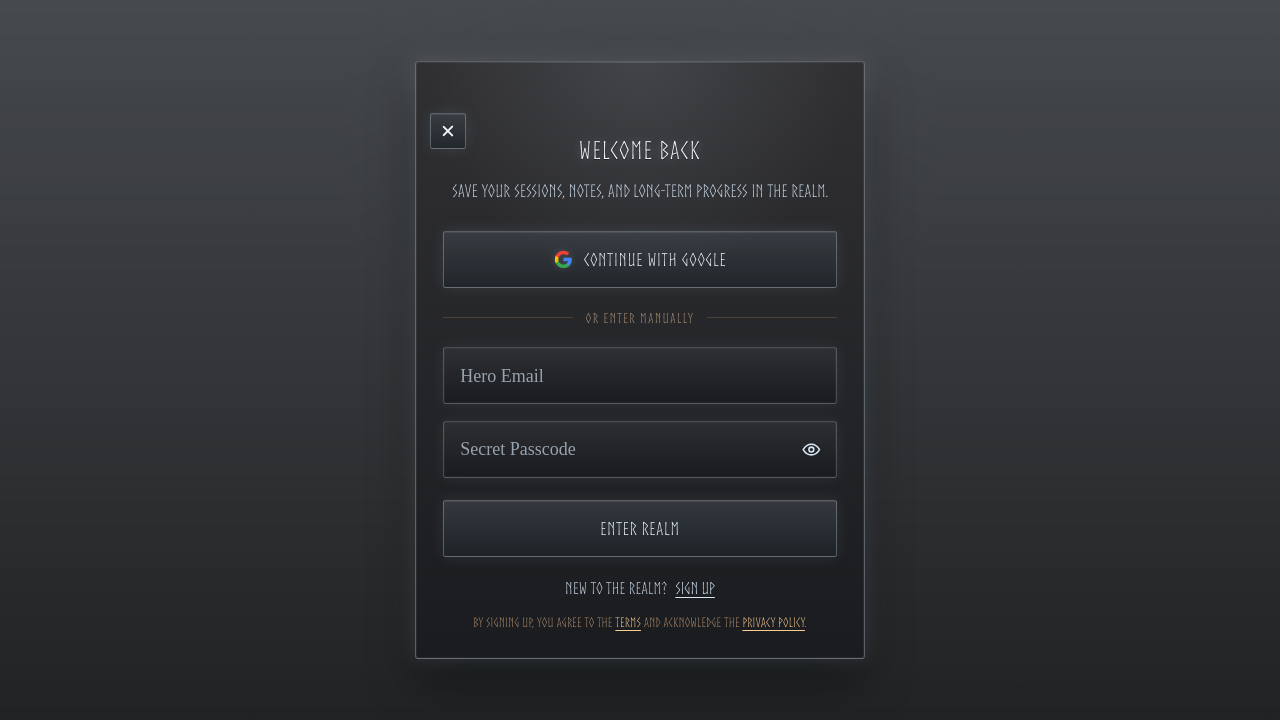
it: AuthBlock › keeps the modal locked while Google OAuth is starting
Click the button "Continue with Google": (640, 260) left=443, top=231, right=837, bottom=288
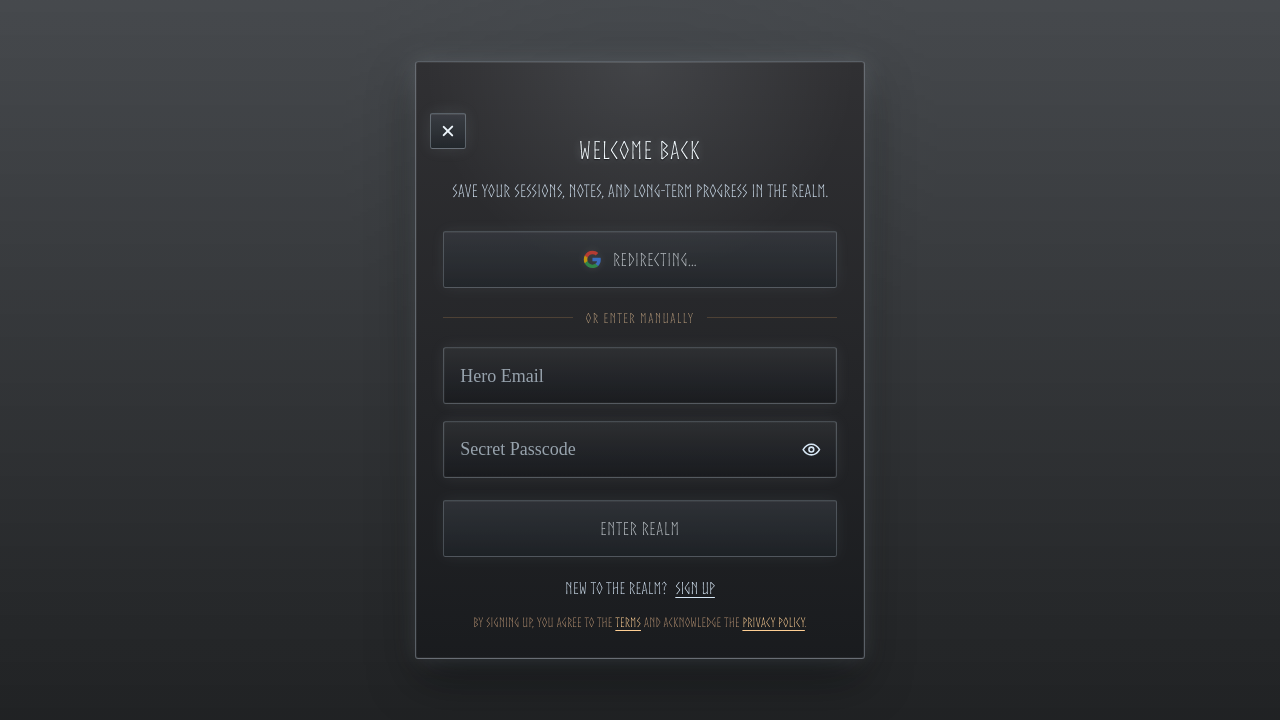
expect the button "Redirecting..." is disabled: met, box left=443, top=231, right=837, bottom=288
expect the button "Enter Realm" is disabled: met, box left=443, top=500, right=837, bottom=557
